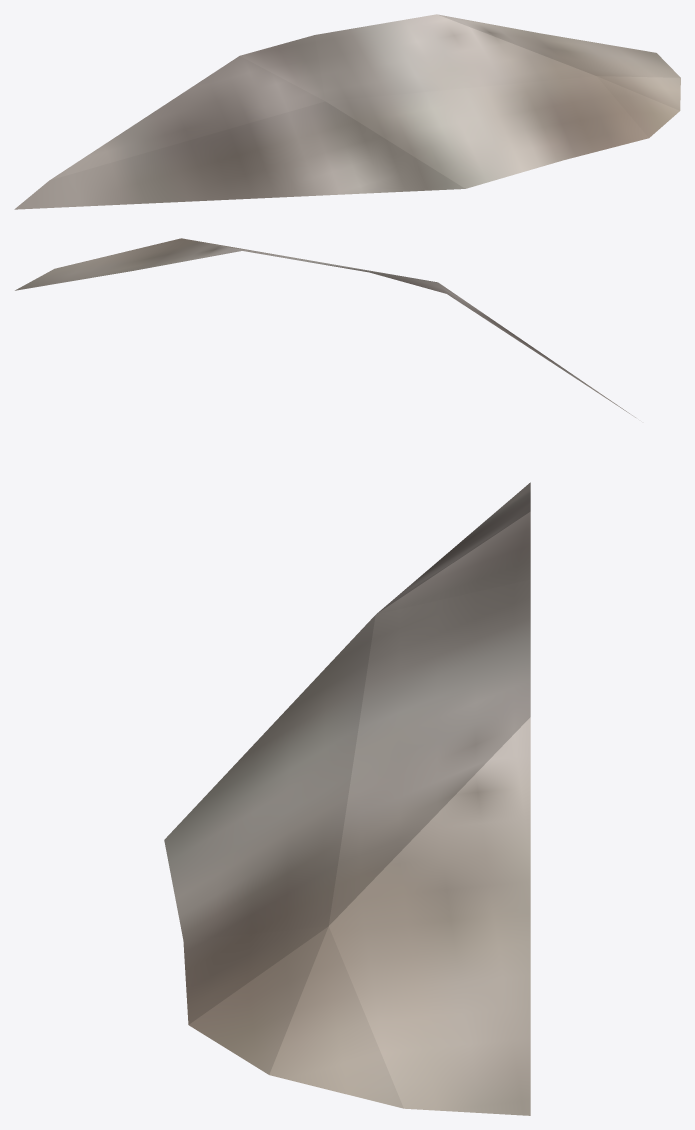
3 renders of one model, top to bottom at view 1: azimuth 30°, elevation 25°; view 2: azimuth 150°, elevation 25°; view 3: azimuth 270°, elevation 25°, orthographic. The views are drawn at different scales.
Size of the model in its own units: 0.2239 by 0.0337 by 0.0553.
Materials: 1 (1 with a texture image).
